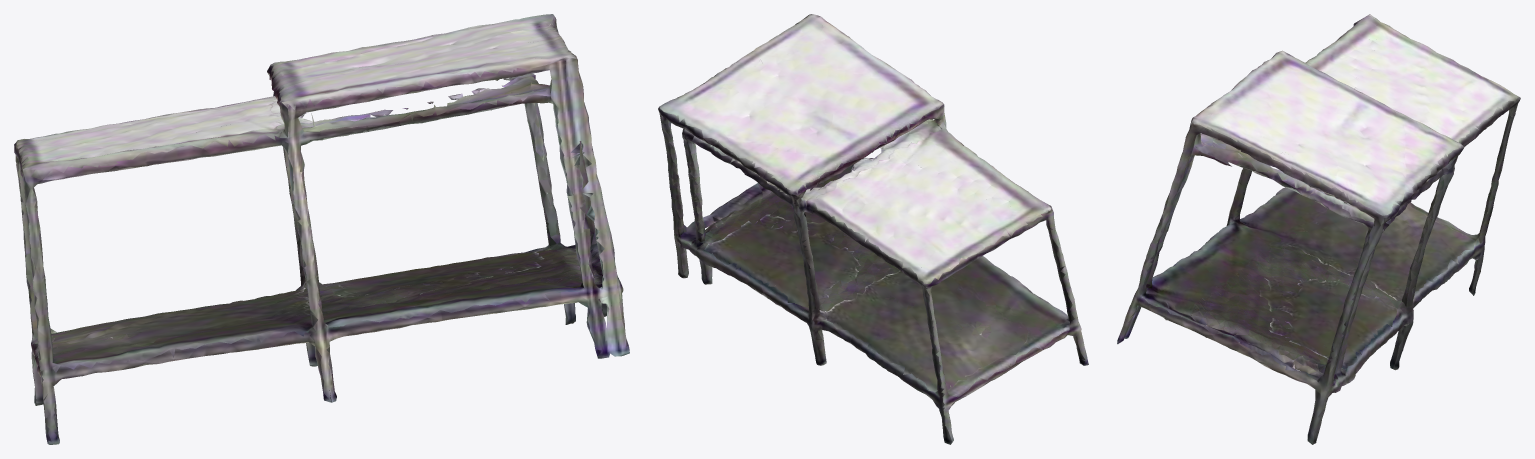
The picture shows the model from 3 angles, left to right: view 1: azimuth 30°, elevation 25°; view 2: azimuth 150°, elevation 25°; view 3: azimuth 270°, elevation 25°; orthographic projection. The views are drawn at different scales.
Parts seen in each view (by area): view 1: world; view 2: world; view 3: world.
Boxes of the visible parts, x1,y1,x2,y2 form: world: (14,14,629,444); world: (658,14,1088,444); world: (1117,14,1520,444).
Size of the model in its own units: 1.05 by 0.6783 by 0.7828.
Materials: 1 (1 with a texture image).
